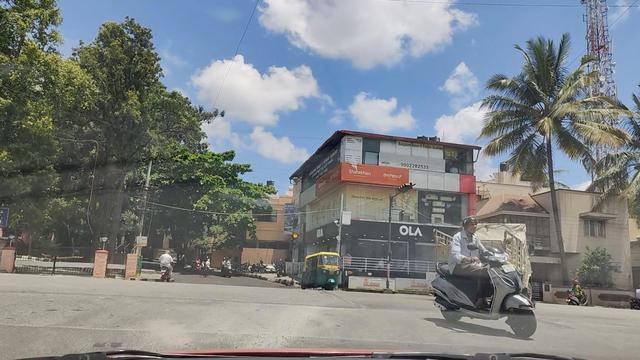LMV: (422, 221, 536, 333), (303, 248, 343, 293)
